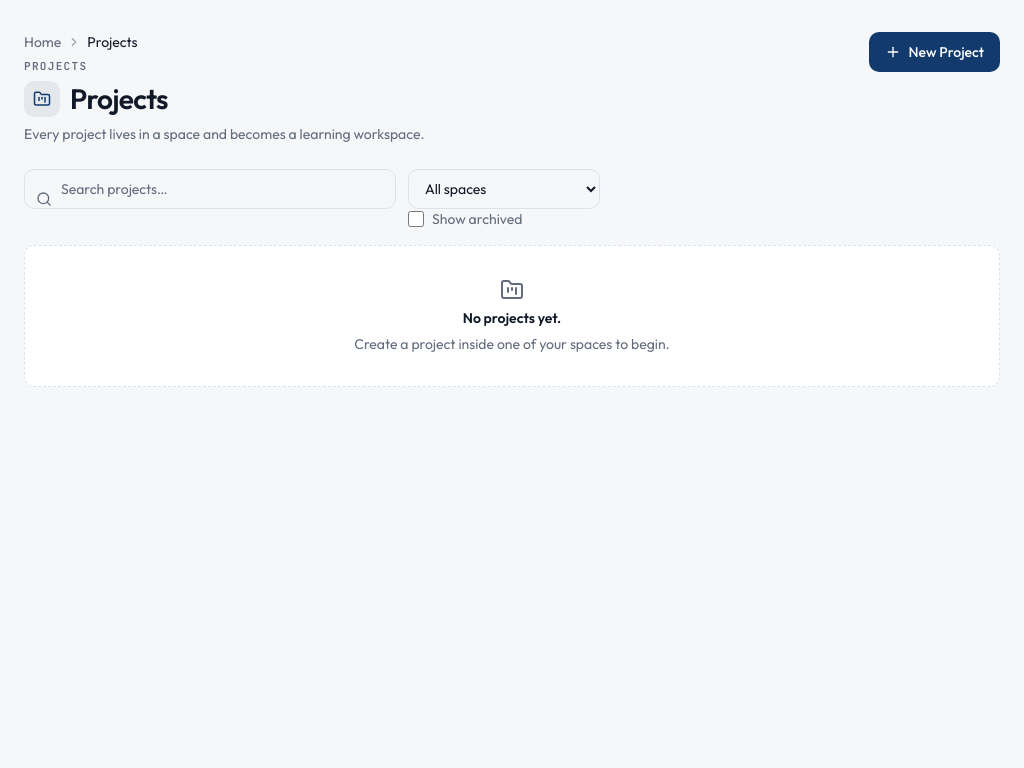
projects store + ProjectsPage › creates a project and surfaces API errors
The width and height of the screenshot is (1024, 768).
Expected: the text "No projects yet." is shown, [463,308,561,328]
Click the button "New Project" at (934, 52), box [868,32,1000,72]
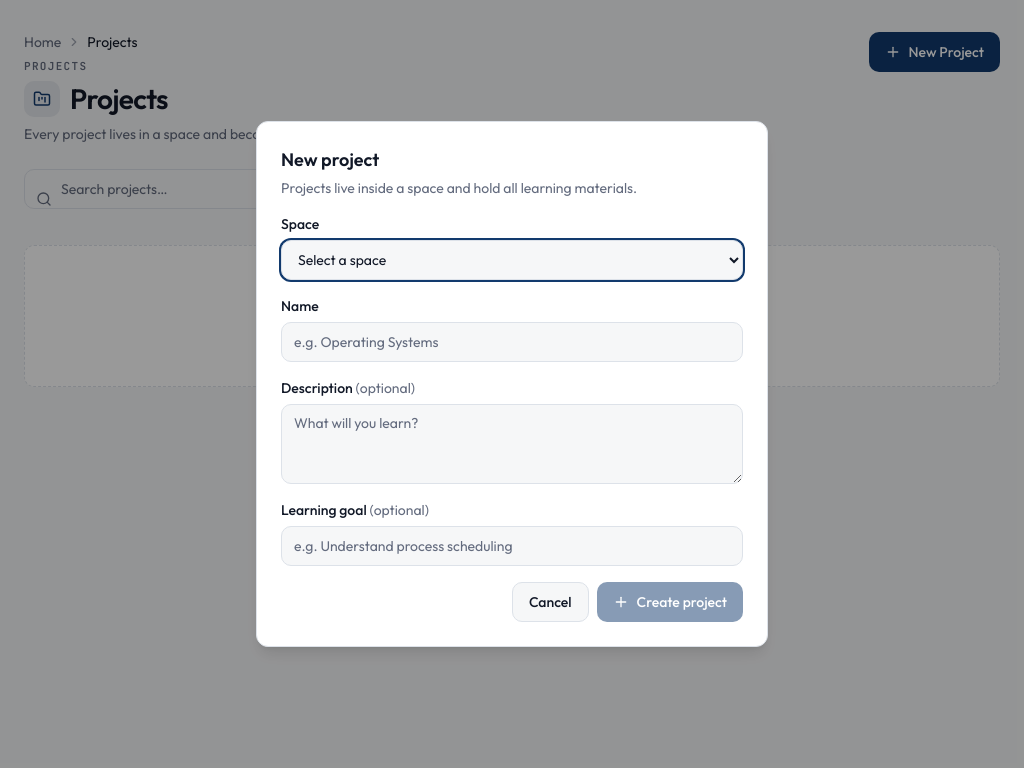
Type "Geometry" into the field labelled "Name" at (512, 342), box [281,322,743,362]
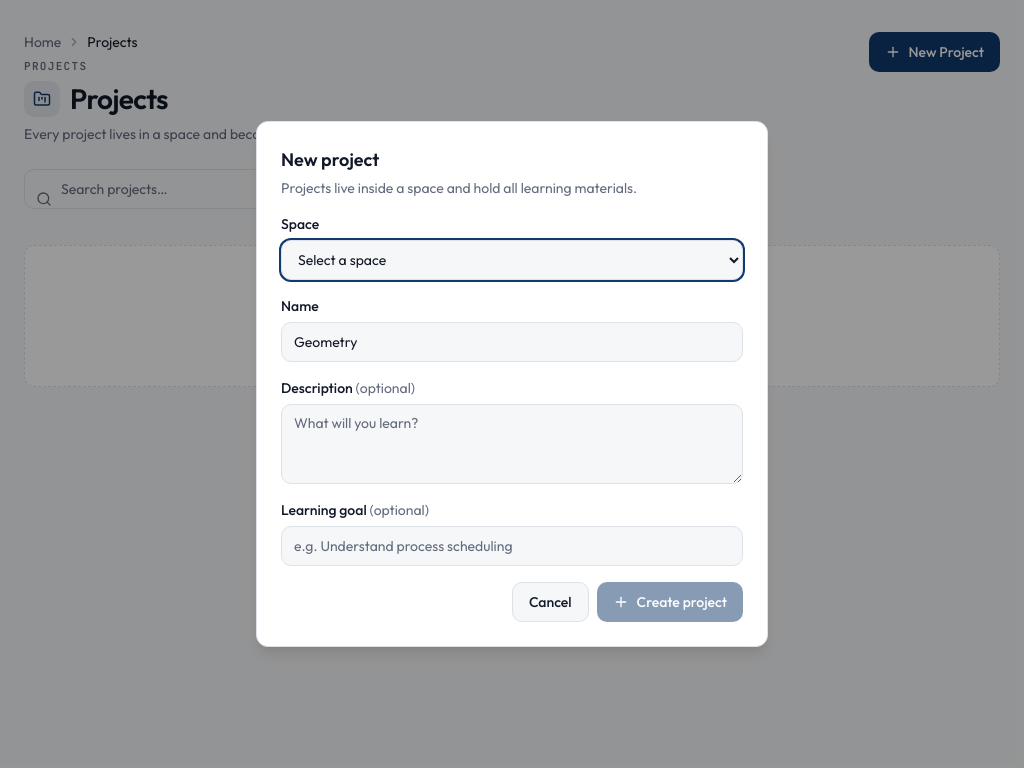
Space select defaults to "" — pick the only space.
Select "Mathematics" in the dropdown labelled "Space" at (512, 260), box [281,240,743,280]
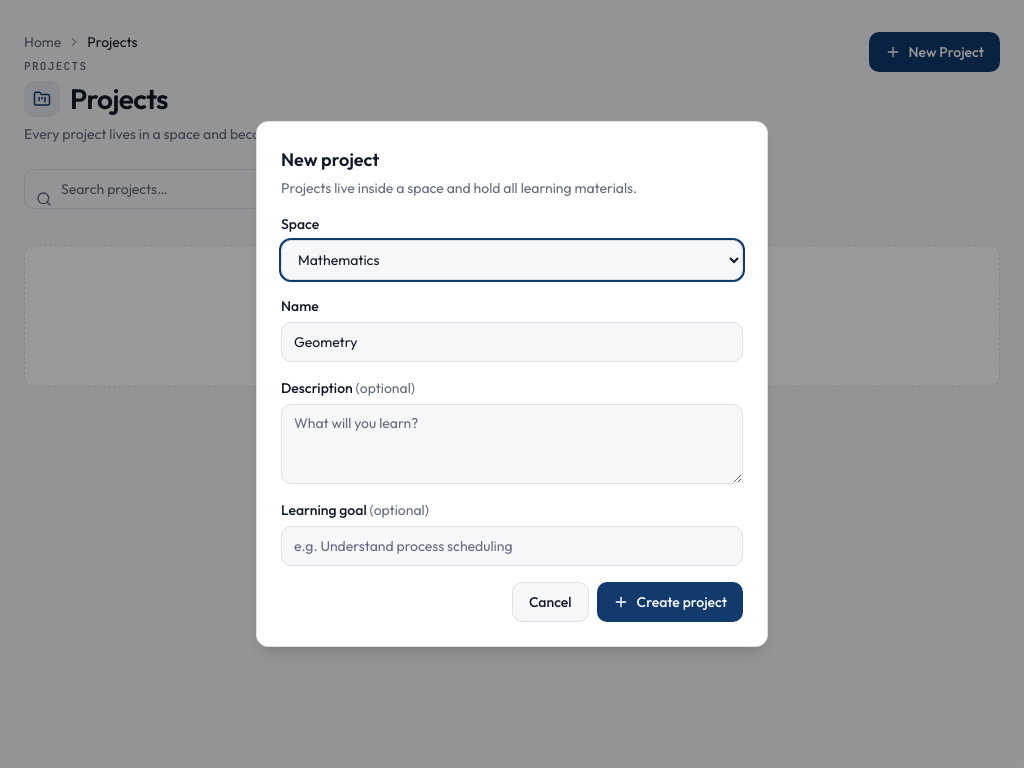
Click the button "Create project" at (670, 602), box [597,582,743,622]
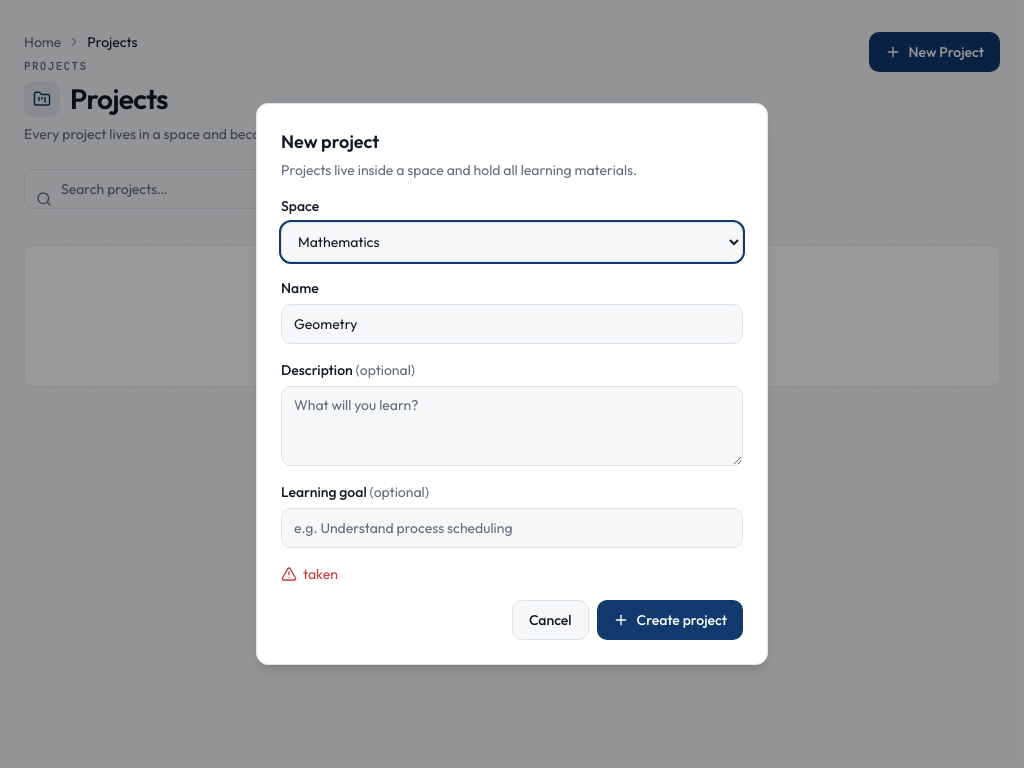
Expected: the message "taken" is shown, [281,565,338,583]
